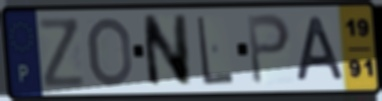A: (295, 15, 348, 83)
L: (194, 13, 236, 88)
N: (139, 12, 193, 90)
O: (87, 14, 135, 89)
P: (245, 12, 293, 87)
Z: (36, 16, 88, 90)
